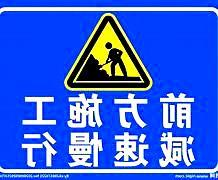sign: (4, 3, 214, 177)
